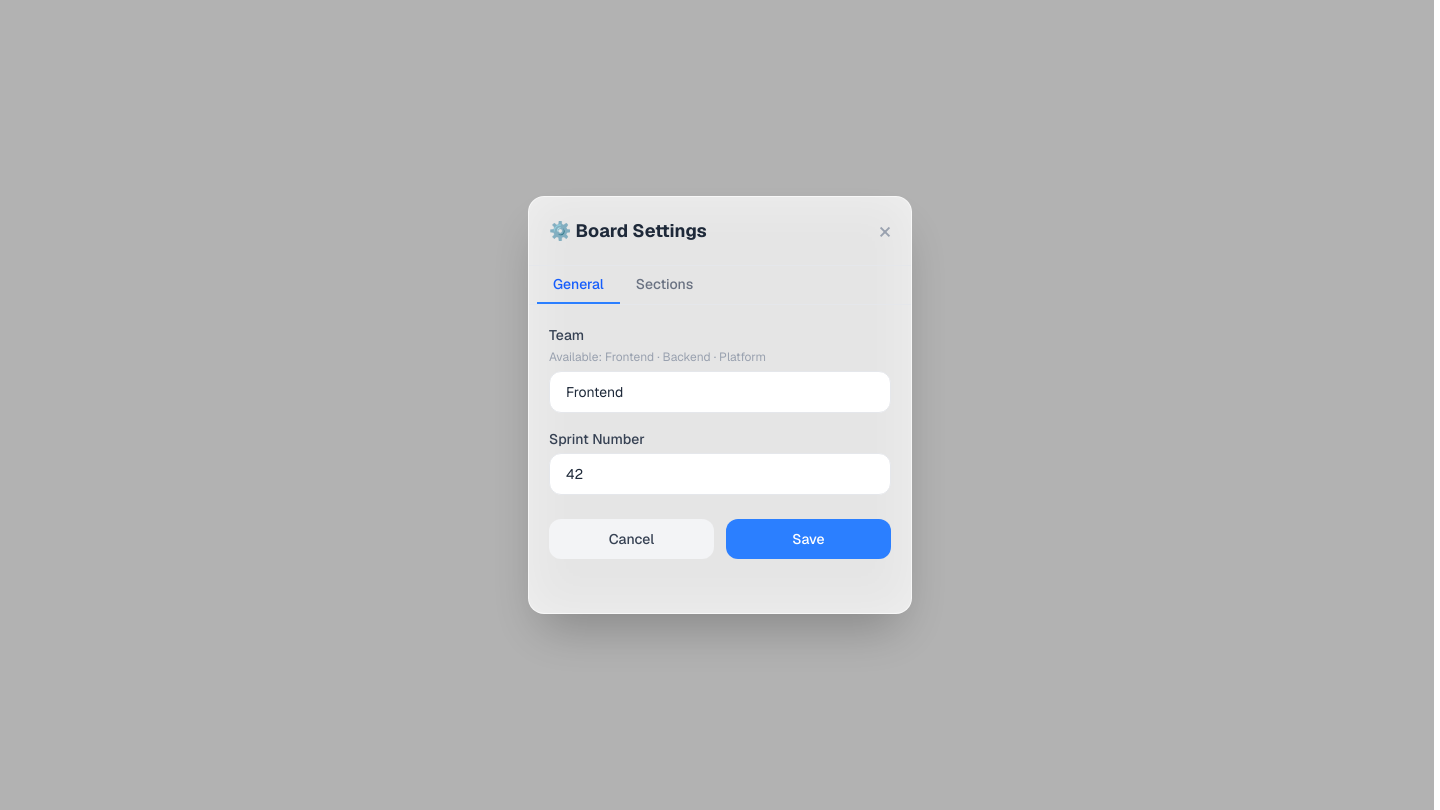
Test: BoardSettingsModal › Save button is disabled when team is invalid
Replace the text in the field showing "Frontend" with "NotATeam": point(720, 392) [549,371,891,413]
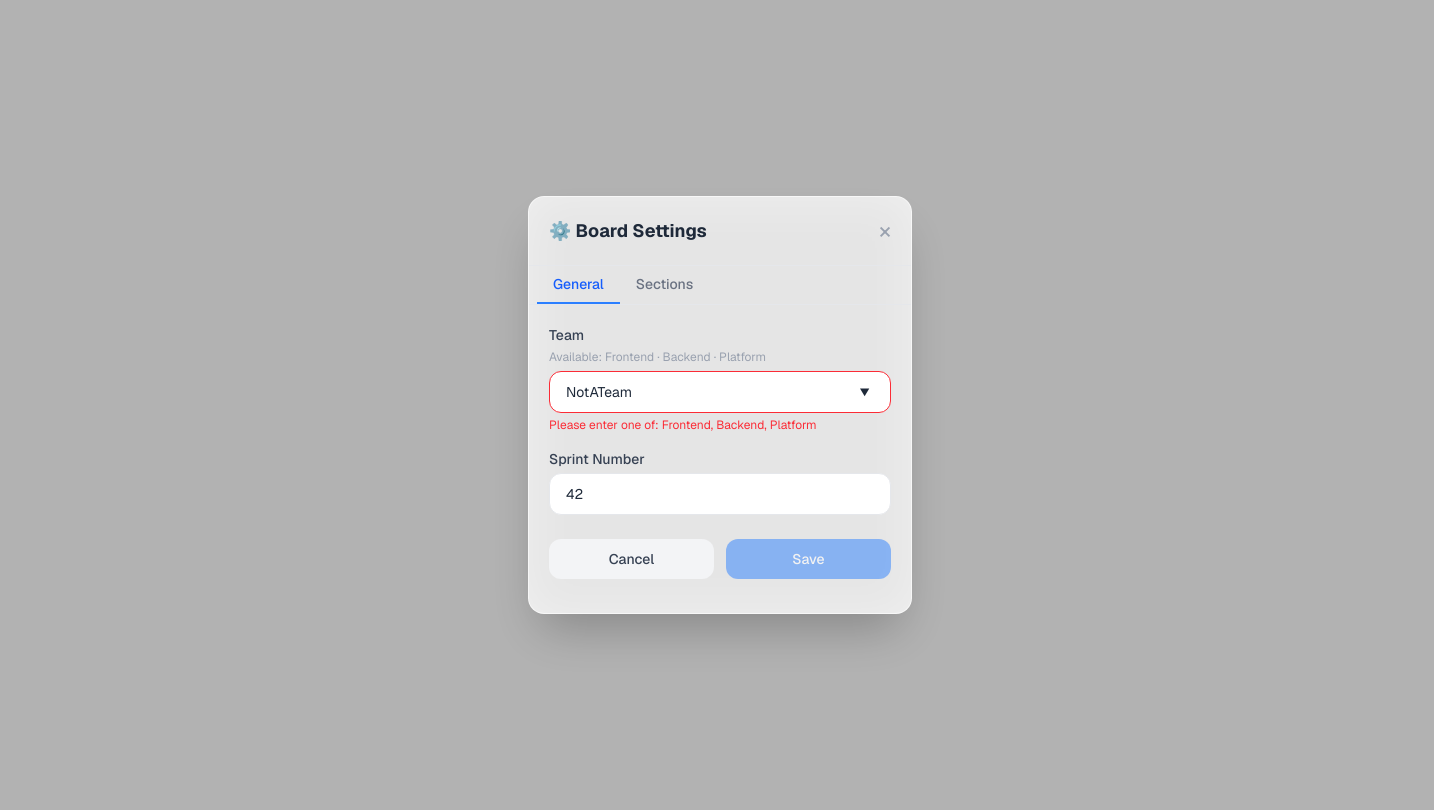
Result: the button "Save" is disabled at [726,539,891,579]
